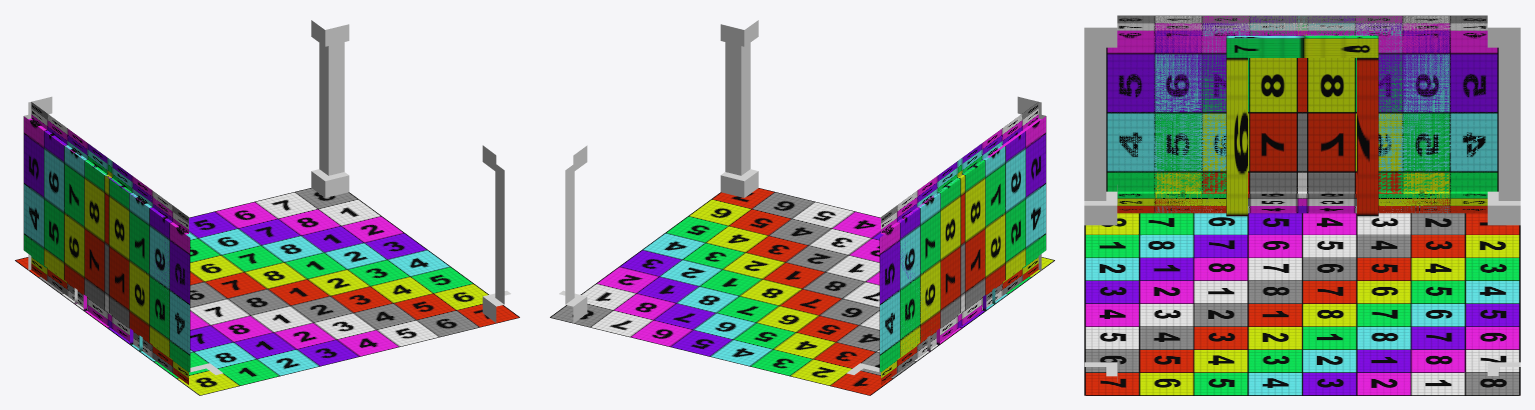
The model's file is RoomBase.glb.
The picture shows the model from 3 angles, left to right: view 1: azimuth 30°, elevation 25°; view 2: azimuth 150°, elevation 25°; view 3: azimuth 270°, elevation 25°; orthographic projection. The views are drawn at different scales.
Visible parts, largest first — view 1: Floor, wall, pillar.003, door; view 2: Floor, wall, pillar.003, door; view 3: Floor, wall, door, pillar.003.
Boxes of the visible parts, x1,y1,x2,y2 form: Floor: (15,188,519,395); wall: (23,102,190,384); pillar.003: (24,20,510,374); door: (28,111,188,383); Floor: (550,188,1054,395); wall: (879,102,1046,384); pillar.003: (559,20,1045,374); door: (881,108,1041,383); Floor: (1084,213,1520,395); wall: (1106,15,1498,213); door: (1117,15,1487,216); pillar.003: (1084,27,1520,381).
Size of the model in its own units: 20.01 by 10 by 20.
Materials: 1 (1 with a texture image).
